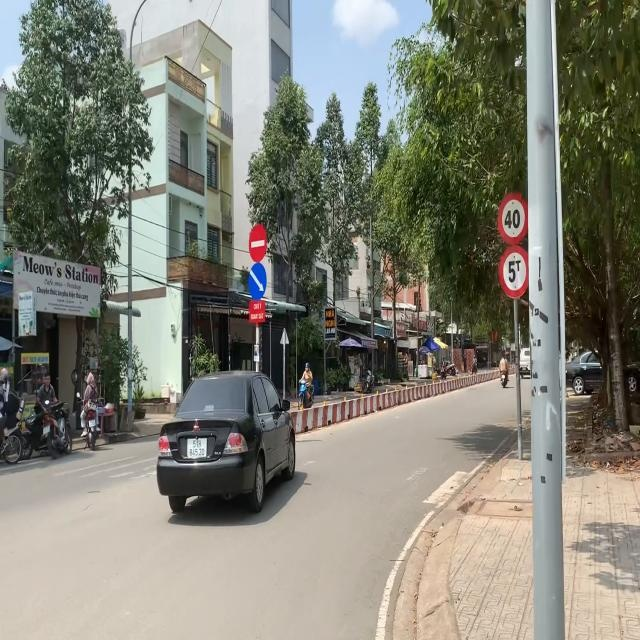bien_hieu_lenh: (499, 245, 529, 298), (499, 193, 528, 244), (248, 222, 268, 264), (248, 262, 267, 302)
